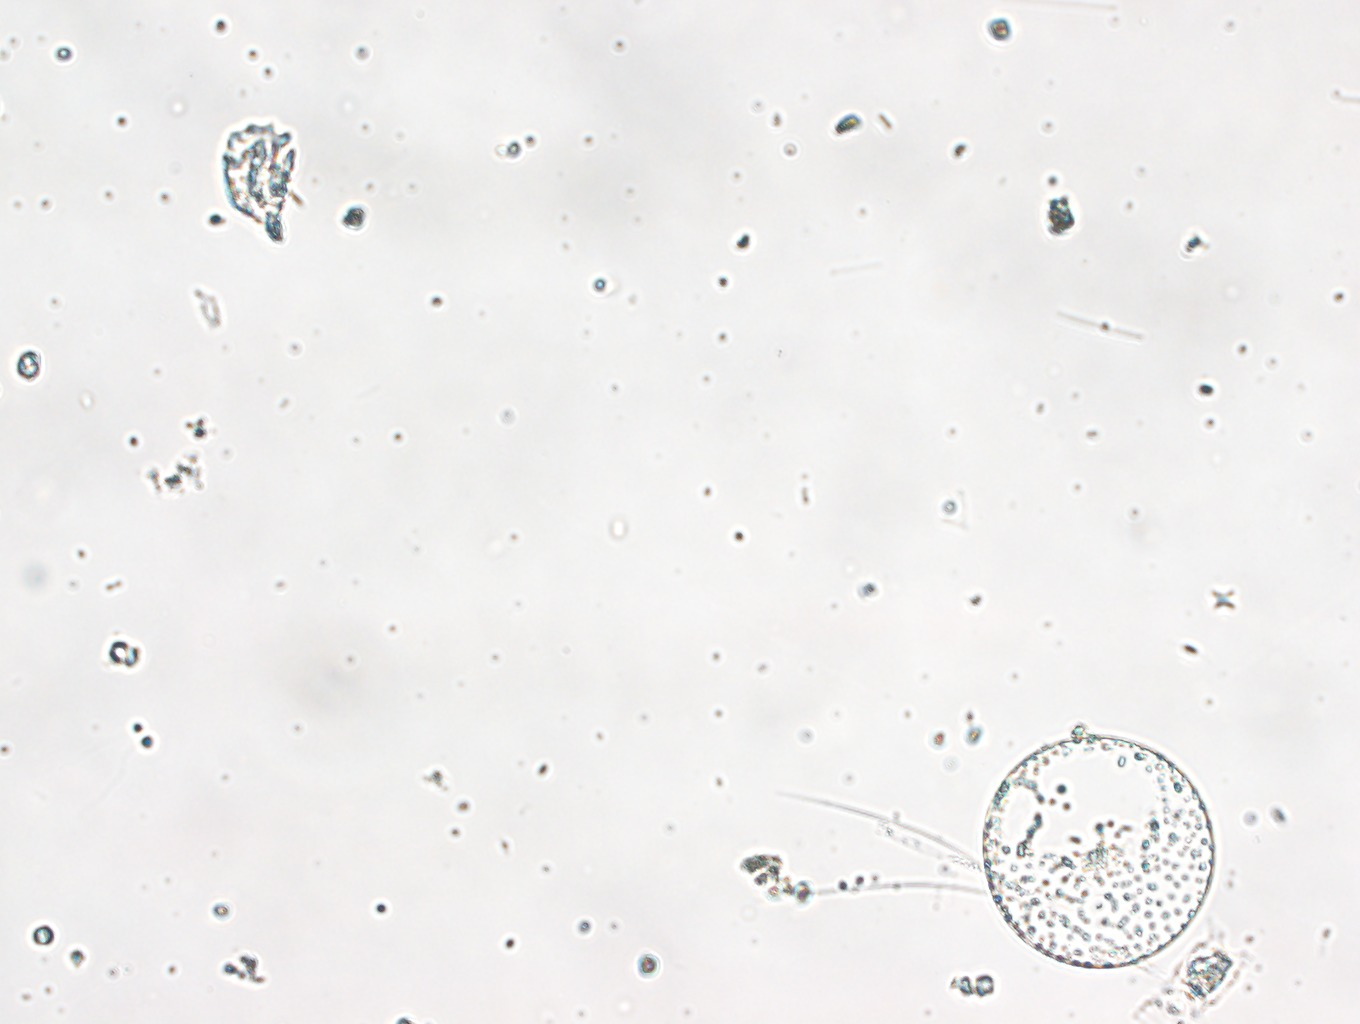coscinodiscus: (980, 736, 1214, 972)
